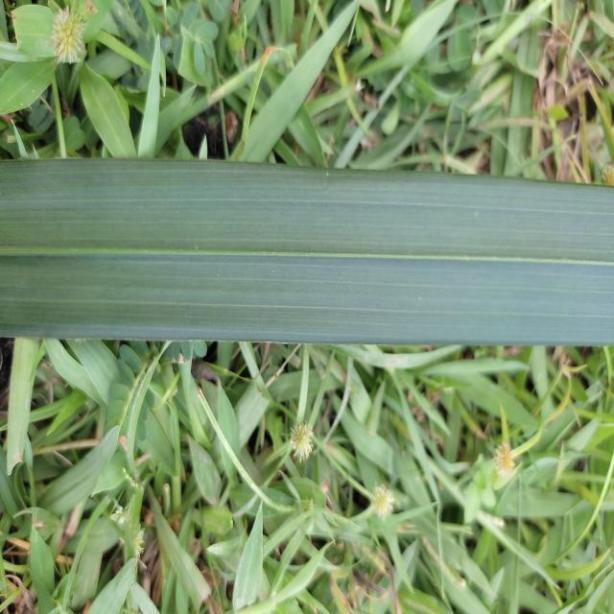Healthy: (0, 158, 614, 354)
